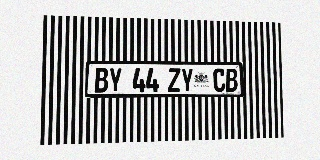4: (132, 68, 145, 92), (146, 68, 159, 92)
B: (95, 68, 108, 93), (225, 68, 238, 92)
C: (213, 68, 225, 92)
Y: (109, 68, 122, 93), (181, 68, 193, 92)
Z: (168, 68, 180, 92)
